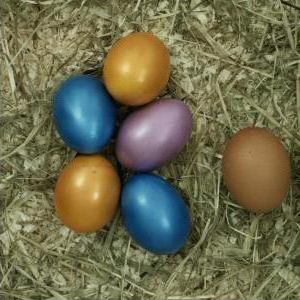egg: (221, 127, 292, 213), (115, 98, 193, 173), (120, 173, 190, 253), (53, 155, 120, 234), (103, 33, 172, 107), (54, 76, 115, 155)
